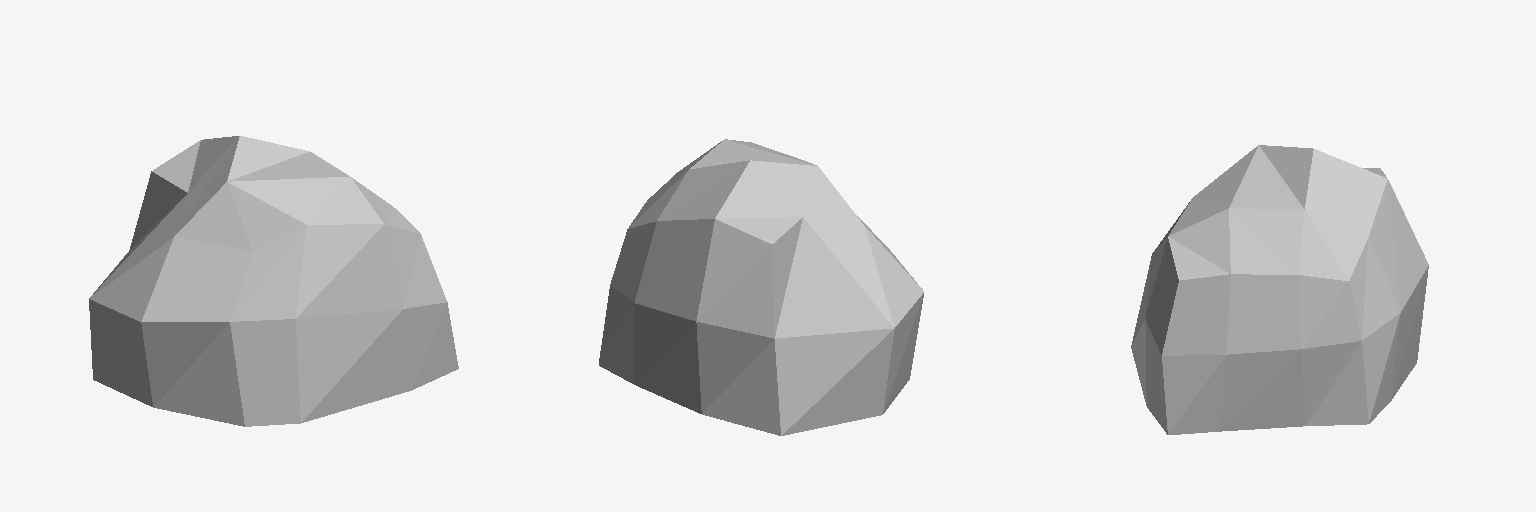
File: 0-Rock.obj
3 views of the same model, side by side, from view 1: azimuth 30°, elevation 25°; view 2: azimuth 150°, elevation 25°; view 3: azimuth 270°, elevation 25° (orthographic).
Visible parts, largest first — view 1: Rock:group1 Rock:pCube1 Rock:polySurface1; view 2: Rock:group1 Rock:pCube1 Rock:polySurface1; view 3: Rock:group1 Rock:pCube1 Rock:polySurface1.
Boxes of the visible parts, x1,y1,x2,y2 form: Rock:group1 Rock:pCube1 Rock:polySurface1: [89, 136, 458, 426]; Rock:group1 Rock:pCube1 Rock:polySurface1: [599, 139, 923, 435]; Rock:group1 Rock:pCube1 Rock:polySurface1: [1131, 145, 1428, 434].
Size of the model in its own units: 1.68 by 1.18 by 1.47.